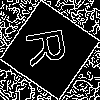R: (25, 25, 76, 68)
